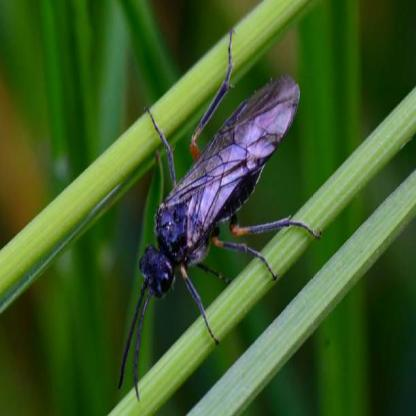sawfly: (113, 26, 320, 398)
